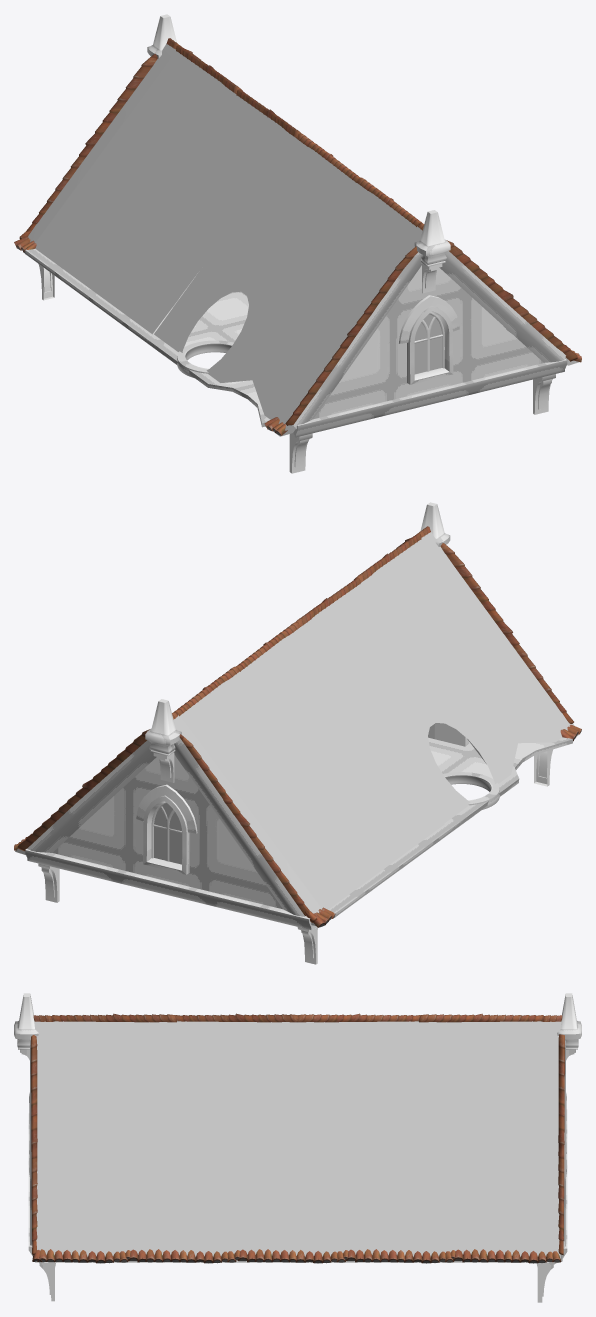
Rendered from SM_AlchemyS_Roof_Big_Window.fbx.
3 renders of one model, top to bottom at view 1: azimuth 30°, elevation 25°; view 2: azimuth 150°, elevation 25°; view 3: azimuth 270°, elevation 25°, orthographic.
Parts seen in each view (by area): view 1: SM_AlchemyS_Roof_Big_Window_LOD0; view 2: SM_AlchemyS_Roof_Big_Window_LOD0; view 3: SM_AlchemyS_Roof_Big_Window_LOD0.
Part boxes in pixels (box(x1,y1,x2,y2)): SM_AlchemyS_Roof_Big_Window_LOD0: box(14, 14, 581, 473); SM_AlchemyS_Roof_Big_Window_LOD0: box(14, 502, 581, 964); SM_AlchemyS_Roof_Big_Window_LOD0: box(14, 993, 581, 1302).
Size of what is drawn, in the model's own units: 16.9 by 12.42 by 26.32.
